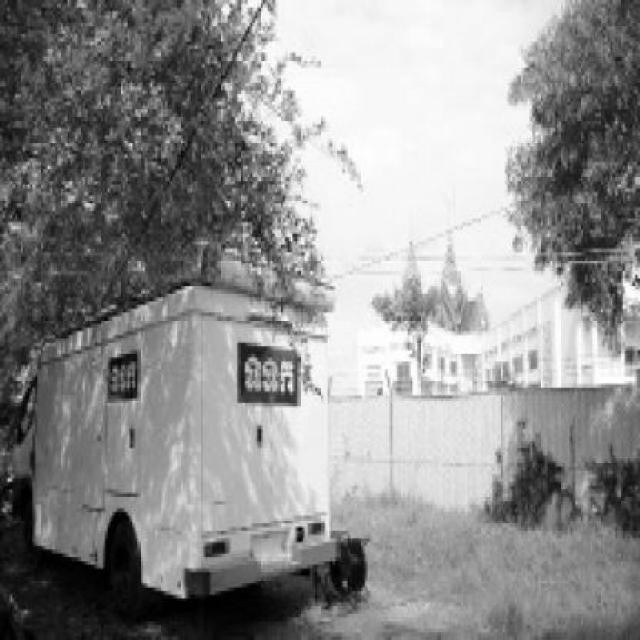Trailer: (31, 286, 335, 619)
